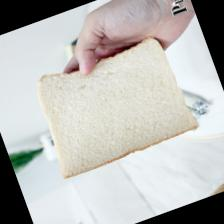bread: (25, 29, 200, 179)
